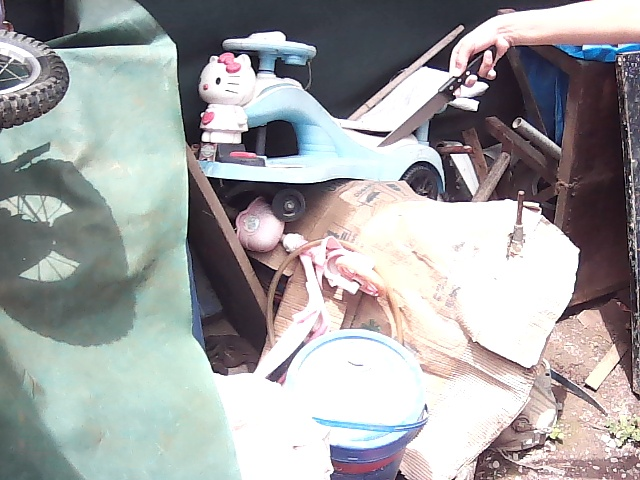cuchillo: (372, 69, 473, 155)
